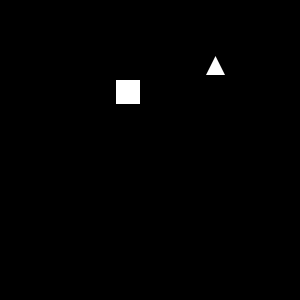circle: (116, 80, 140, 104)
triangle: (206, 56, 225, 75)
